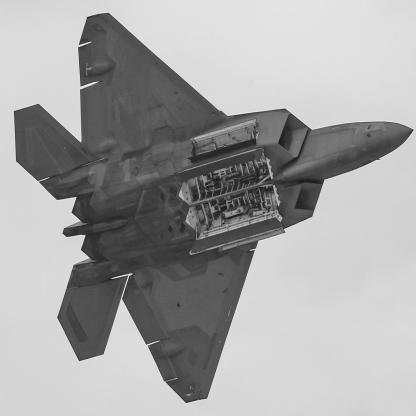F22: (13, 14, 415, 406)
